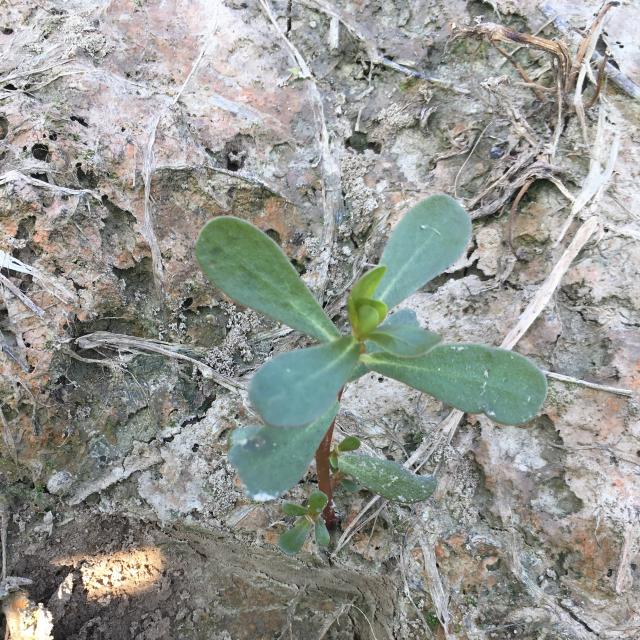Purslane: (195, 192, 549, 557)
